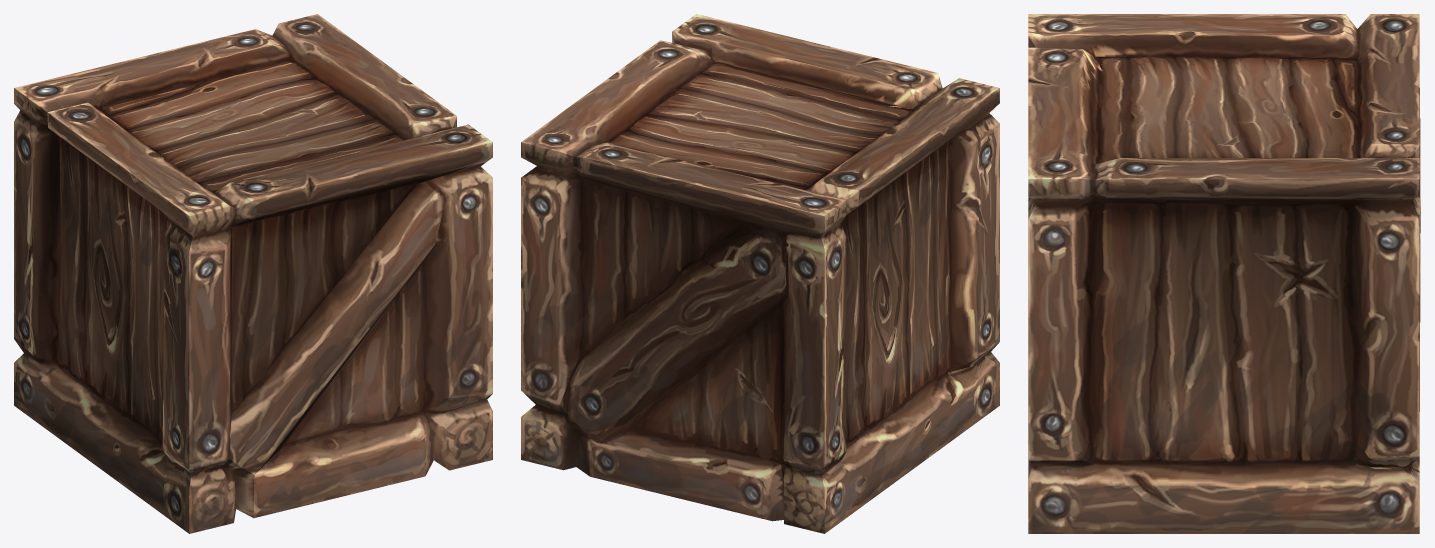
Rendered from P_Crate_1.fbx.
The picture shows the model from 3 angles, left to right: view 1: azimuth 30°, elevation 25°; view 2: azimuth 150°, elevation 25°; view 3: azimuth 270°, elevation 25°; orthographic projection. The views are drawn at different scales.
Parts seen in each view (by area): view 1: P_crate_1_LOD0; view 2: P_crate_1_LOD0; view 3: P_crate_1_LOD0.
Boxes of the visible parts, x1=… form: P_crate_1_LOD0: x1=14, y1=14, x2=492, y2=533; P_crate_1_LOD0: x1=521, y1=14, x2=999, y2=533; P_crate_1_LOD0: x1=1028, y1=14, x2=1420, y2=533.
Size of what is drawn, in the model's own units: 0.9985 by 0.9985 by 1.
